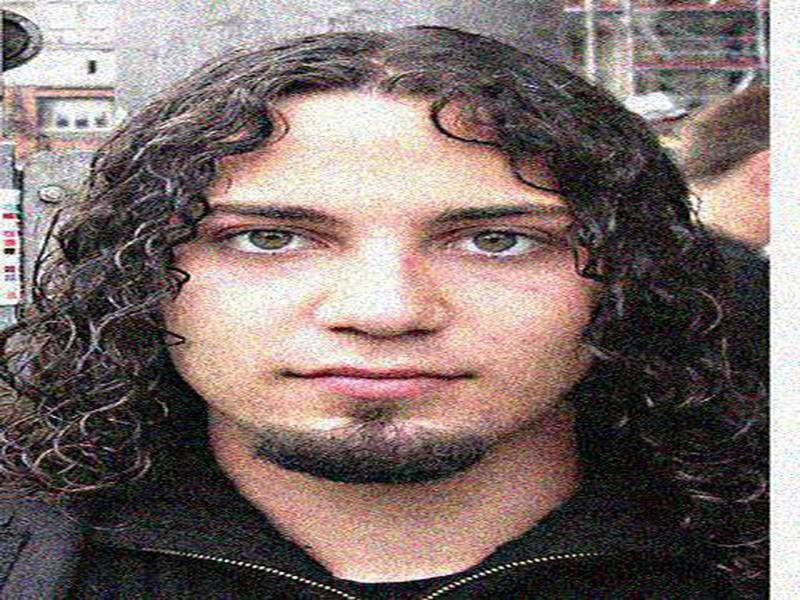without_mask: (172, 102, 589, 482)
